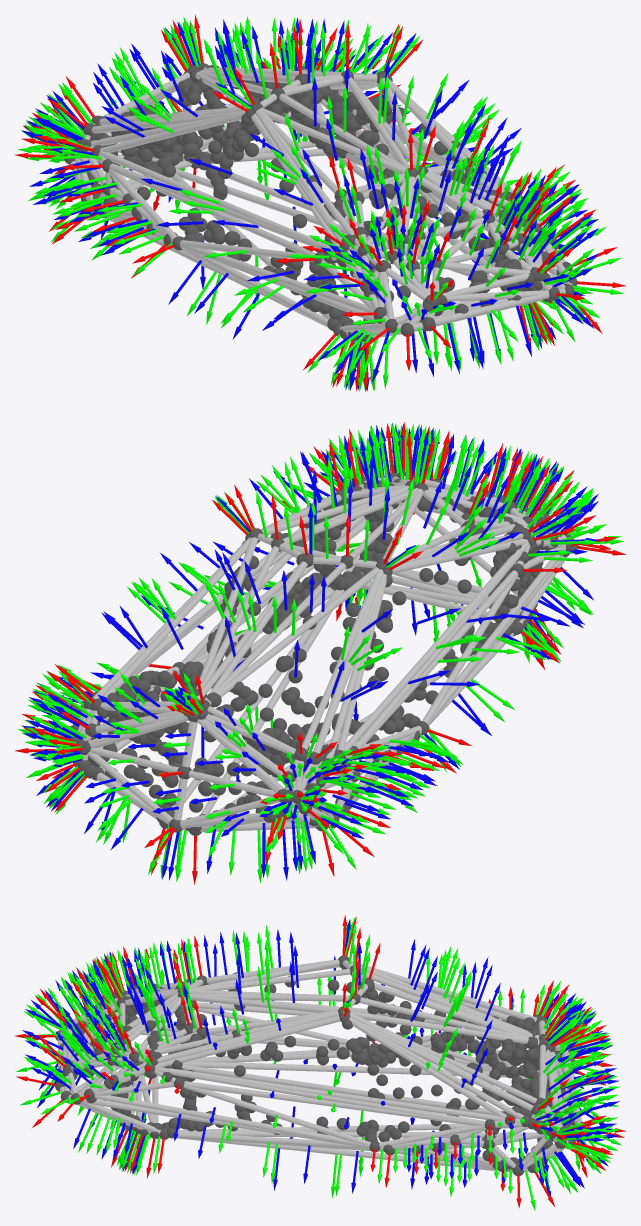
Rendered from cassie_car.gltf.
3 views of the same model, one above another, from view 1: azimuth 30°, elevation 25°; view 2: azimuth 150°, elevation 25°; view 3: azimuth 270°, elevation 25° (orthographic). The views are drawn at different scales.
Size of the model in its own units: 0.554 by 0.4298 by 1.04.
